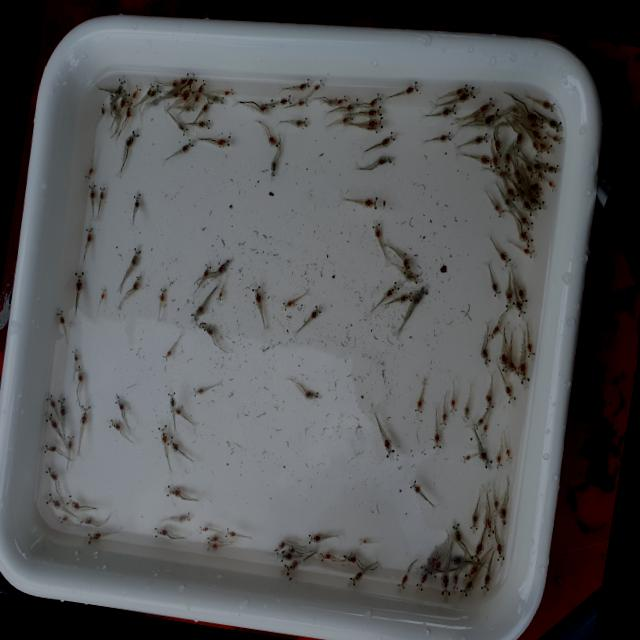babyshrimp: (282, 555, 303, 576), (164, 482, 183, 502), (470, 537, 485, 562), (65, 491, 83, 511), (44, 411, 60, 433), (174, 69, 193, 87), (217, 257, 234, 277), (521, 196, 537, 217), (118, 87, 132, 111), (415, 569, 430, 591), (459, 85, 477, 103), (45, 490, 62, 509), (482, 105, 501, 122), (463, 562, 479, 582), (44, 464, 60, 484), (256, 96, 277, 111), (479, 446, 493, 468), (198, 321, 216, 338), (273, 538, 291, 555), (190, 302, 205, 322), (350, 567, 365, 587), (460, 577, 475, 597), (87, 529, 107, 544), (57, 394, 68, 421), (113, 393, 127, 414), (383, 434, 395, 458), (384, 280, 400, 298), (380, 129, 396, 147), (153, 524, 171, 540), (480, 569, 492, 593), (515, 294, 527, 318), (532, 129, 548, 147), (79, 403, 91, 427), (74, 269, 85, 295), (519, 359, 530, 385), (506, 183, 521, 202), (199, 95, 214, 114), (157, 422, 169, 445), (55, 306, 67, 329), (252, 284, 263, 309), (479, 95, 496, 111), (167, 434, 181, 453), (488, 319, 501, 339), (451, 521, 462, 544), (495, 539, 506, 562), (125, 129, 139, 147), (130, 246, 142, 267), (441, 571, 451, 596), (397, 570, 410, 589), (307, 303, 322, 319), (505, 383, 517, 403), (519, 231, 534, 247), (485, 515, 495, 539), (538, 141, 554, 156), (280, 549, 298, 562), (532, 160, 550, 173), (375, 152, 393, 165), (505, 285, 515, 308), (307, 532, 326, 544), (45, 392, 57, 411), (345, 95, 360, 110), (408, 478, 422, 494), (367, 103, 383, 117), (368, 115, 384, 129), (547, 118, 563, 132), (108, 417, 124, 431), (185, 71, 199, 87), (195, 76, 208, 93), (513, 130, 523, 152), (438, 128, 453, 142), (442, 103, 457, 117), (404, 80, 419, 94), (369, 92, 383, 107), (480, 153, 495, 167), (116, 76, 126, 97), (432, 431, 443, 450), (216, 134, 232, 147), (178, 510, 194, 523), (76, 362, 85, 385), (493, 201, 505, 218), (133, 190, 143, 210), (518, 286, 528, 306), (520, 216, 534, 230), (542, 99, 556, 113), (454, 82, 469, 95), (181, 137, 194, 152), (149, 83, 162, 98), (318, 550, 333, 563), (211, 92, 226, 105), (305, 387, 321, 399), (500, 251, 512, 267), (473, 132, 489, 144), (372, 221, 382, 240), (485, 392, 495, 411), (491, 278, 501, 297), (469, 511, 479, 530), (168, 389, 177, 410), (131, 82, 142, 99), (365, 196, 379, 209), (224, 525, 238, 538), (341, 111, 355, 124), (526, 338, 535, 358), (88, 182, 97, 202), (414, 395, 424, 413), (70, 345, 79, 365), (162, 346, 173, 362), (202, 262, 213, 278), (66, 432, 75, 451), (402, 257, 412, 274), (481, 347, 491, 364), (267, 134, 280, 147), (499, 504, 507, 525), (196, 118, 211, 129), (177, 121, 188, 136), (159, 286, 168, 304), (206, 540, 222, 550), (494, 137, 502, 157), (44, 443, 60, 453), (282, 298, 294, 311), (400, 290, 413, 302), (523, 247, 535, 260), (298, 77, 310, 90), (547, 162, 560, 174), (223, 86, 236, 98), (335, 93, 348, 105), (278, 94, 292, 105), (193, 385, 207, 396), (85, 226, 94, 243), (126, 100, 135, 117), (504, 446, 513, 462), (295, 116, 308, 127), (449, 395, 457, 412), (84, 166, 93, 181), (496, 449, 503, 468), (551, 134, 563, 145), (481, 421, 489, 437), (132, 275, 141, 289), (440, 408, 447, 426), (99, 100, 107, 115), (270, 160, 277, 177), (99, 184, 106, 201), (216, 289, 224, 302), (358, 537, 371, 545), (100, 287, 107, 301), (463, 453, 471, 463)
